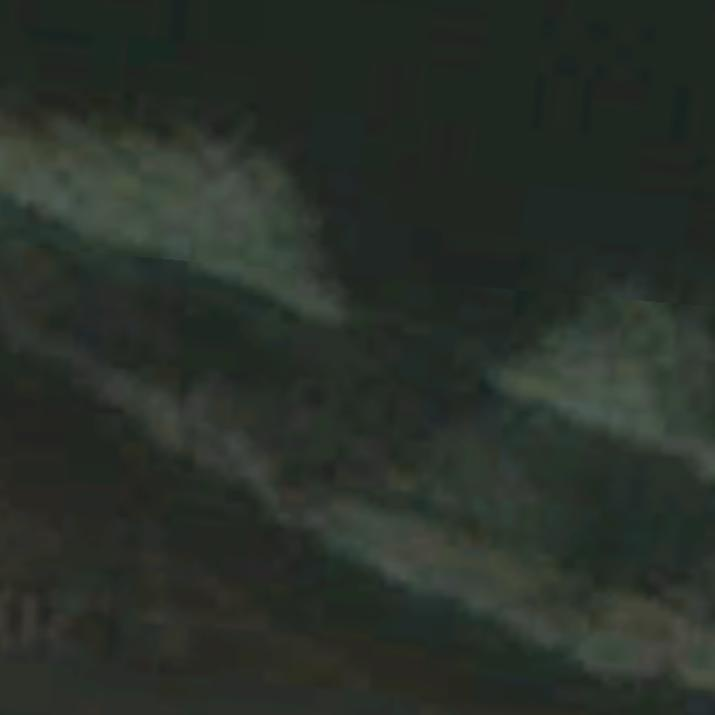rip_current: (250, 129, 608, 528)
